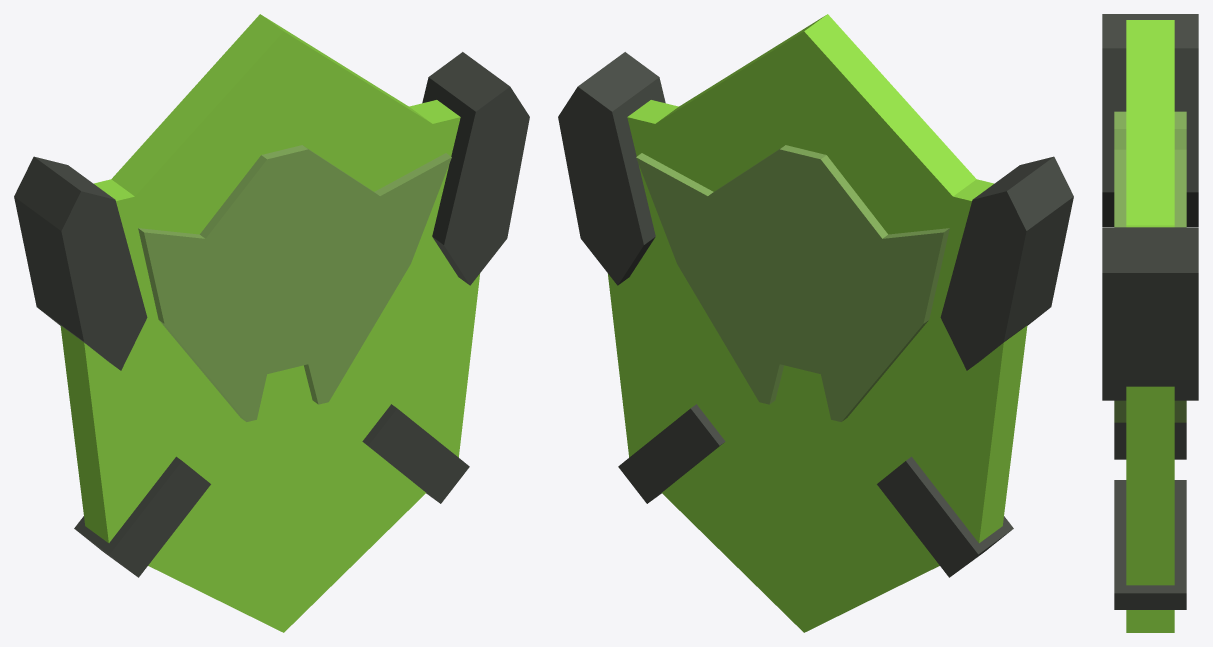
The model's file is ShieldPickup.obj.
The picture shows the model from 3 angles, left to right: view 1: azimuth 30°, elevation 25°; view 2: azimuth 150°, elevation 25°; view 3: azimuth 270°, elevation 25°; orthographic projection.
Parts seen in each view (by area): view 1: Base, plane, cuboid; view 2: Base, plane, cuboid; view 3: plane, Base, cuboid.
Boxes of the visible parts, x1,y1,x2,y2 form: Base: [60, 14, 479, 632]; plane: [14, 52, 529, 421]; cuboid: [74, 404, 469, 577]; Base: [608, 14, 1027, 632]; plane: [558, 52, 1073, 421]; cuboid: [618, 404, 1013, 577]; plane: [1102, 14, 1198, 422]; Base: [1126, 20, 1174, 632]; cuboid: [1114, 422, 1186, 609].
Bounding box in the file's own units: 0.7131 × 0.875 × 0.125.
4 materials, 4 textured.
